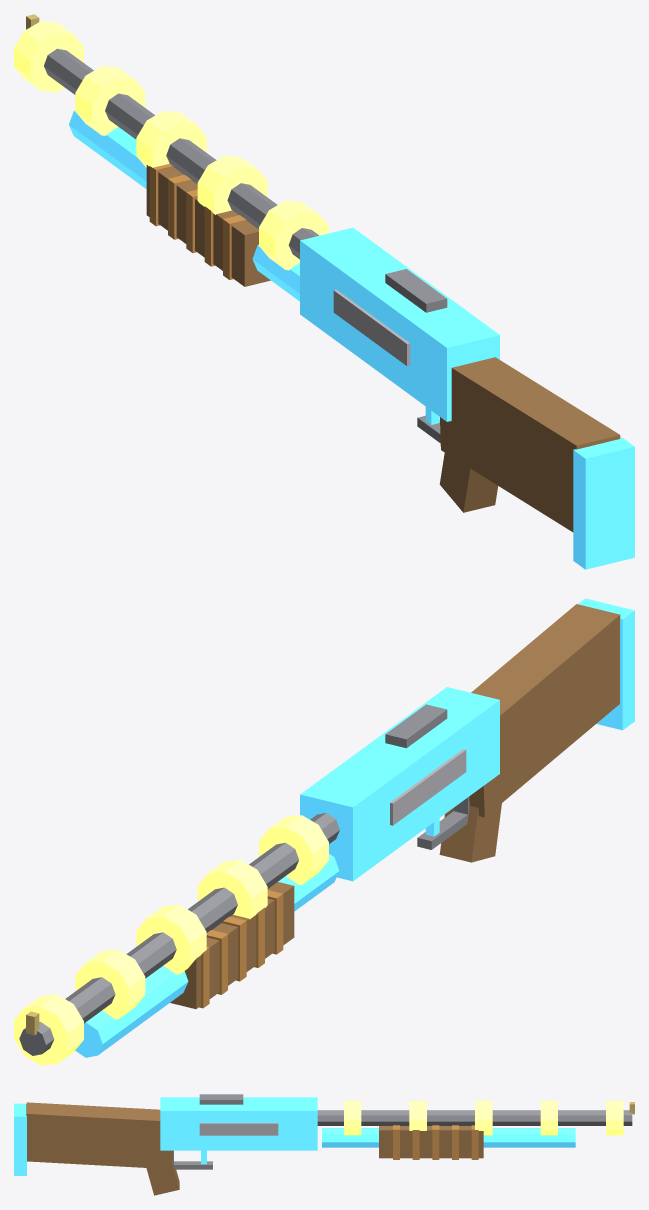
The model's file is charge_shotgun.glb.
3 views of the same model, one above another, from view 1: azimuth 30°, elevation 25°; view 2: azimuth 150°, elevation 25°; view 3: azimuth 270°, elevation 25° (orthographic). The views are drawn at different scales.
Visible parts, largest first — view 1: ChargeShotgun; view 2: ChargeShotgun; view 3: ChargeShotgun.
Part boxes in pixels (<box>): ChargeShotgun: <box>14,14,634,569</box>; ChargeShotgun: <box>14,598,634,1065</box>; ChargeShotgun: <box>14,1094,634,1195</box>.
Size of the model in its own units: 0.084 by 0.2386 by 1.42.
